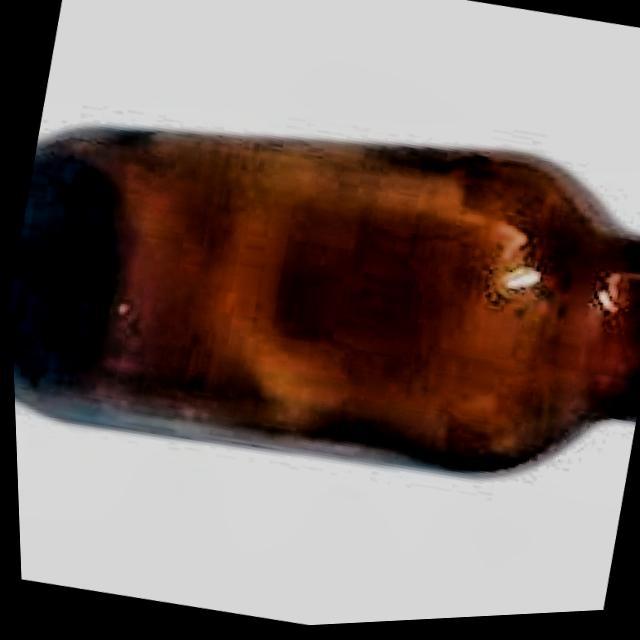glass: (8, 123, 640, 480)
